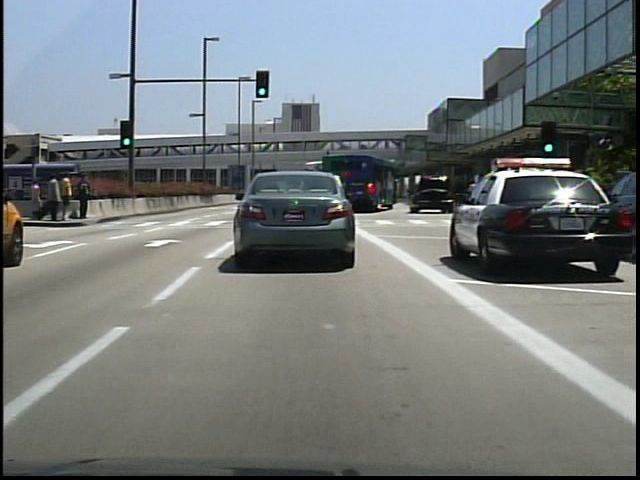person: (78, 172, 96, 223), (27, 177, 46, 223), (60, 170, 76, 224), (48, 173, 64, 222)
